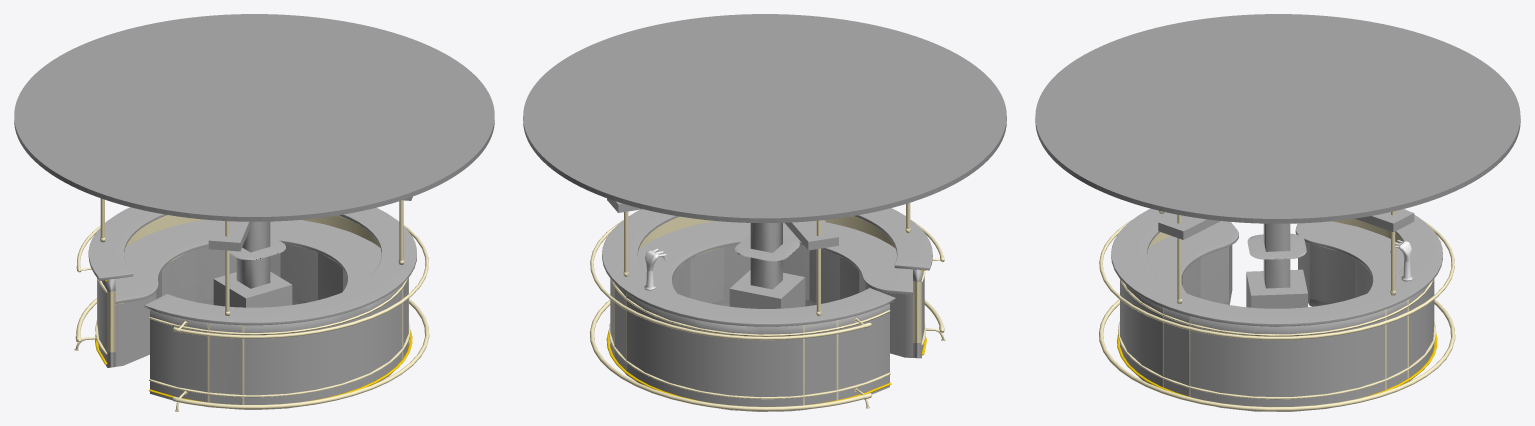
Rendered from Bar.fbx.
3 views of the same model, side by side, from view 1: azimuth 30°, elevation 25°; view 2: azimuth 150°, elevation 25°; view 3: azimuth 270°, elevation 25° (orthographic).
Visible parts, largest first — view 1: Bar; view 2: Bar; view 3: Bar.
Part boxes in pixels (x1=…): Bar: x1=14, y1=14, x2=494, y2=411; Bar: x1=523, y1=14, x2=1006, y2=411; Bar: x1=1035, y1=14, x2=1520, y2=411.
Size of the model in its own units: 570 by 299 by 570.
